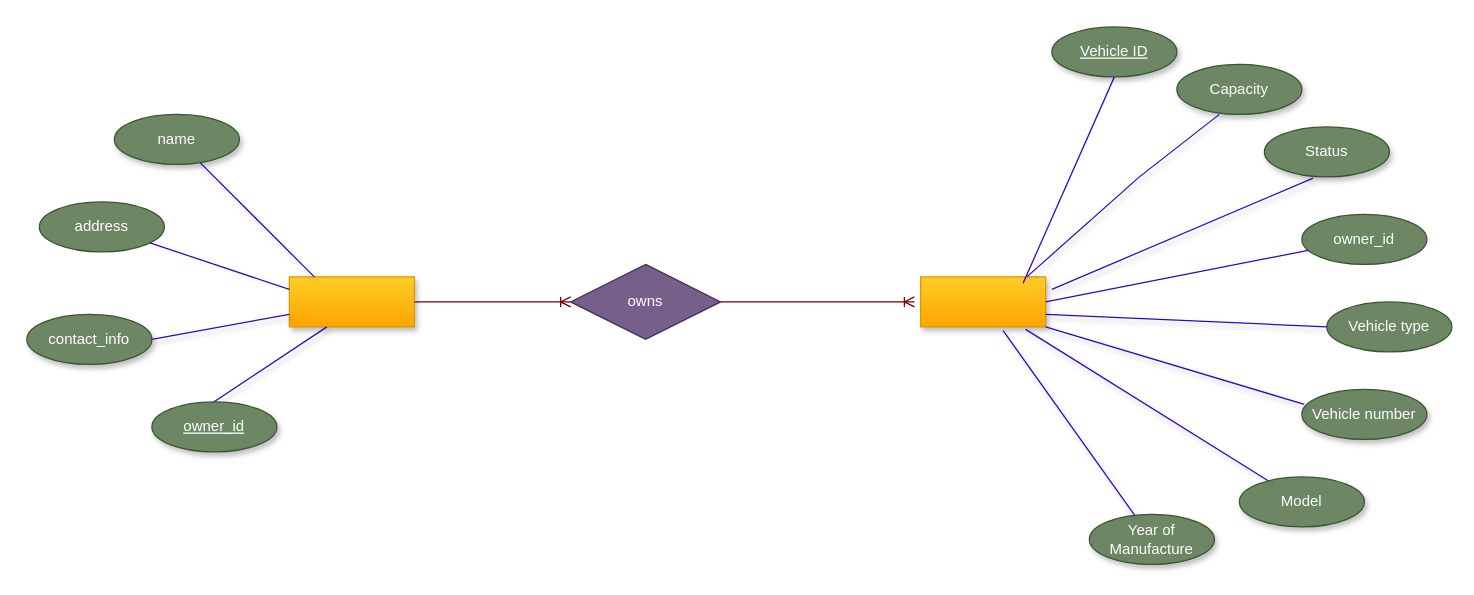
Some shapes in this 1474 by 595 pixel diagram are drawn without their labels. Here are the shapes that lost their labels. From the top down, the centre of each, then its label:
At (352,303): "Owner".
At (983,303): "Vehicle".
